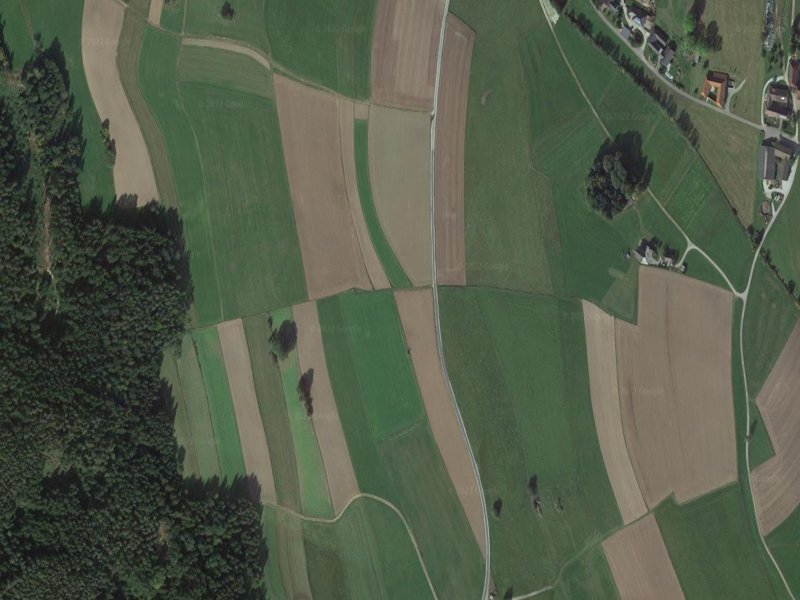field: (340, 292, 427, 439)
